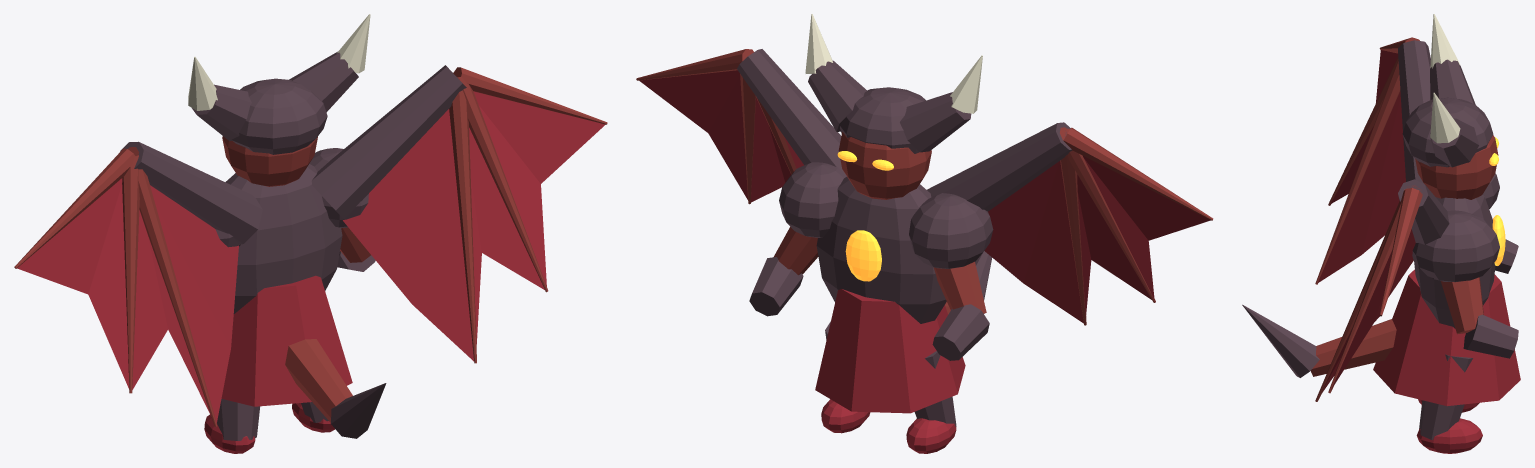
File: demonio.glb
3 views of the same model, side by side, from view 1: azimuth 30°, elevation 25°; view 2: azimuth 150°, elevation 25°; view 3: azimuth 270°, elevation 25° (orthographic). The views are drawn at different scales.
Visible parts, largest first — view 1: WingR, Body, WingL; view 2: Body, WingL, WingR; view 3: Body, WingL, WingR.
Boxes of the visible parts, x1=… form: WingR: x1=311, y1=65, x2=607, y2=363; Body: x1=188, y1=14, x2=386, y2=453; WingL: x1=14, y1=141, x2=262, y2=426; Body: x1=749, y1=14, x2=993, y2=453; WingL: x1=927, y1=122, x2=1213, y2=325; WingR: x1=636, y1=49, x2=844, y2=204; Body: x1=1242, y1=14, x2=1520, y2=453; WingL: x1=1315, y1=37, x2=1430, y2=284; WingR: x1=1315, y1=179, x2=1449, y2=401.
Size of the model in its own units: 1.96 by 1.3 by 0.865.
